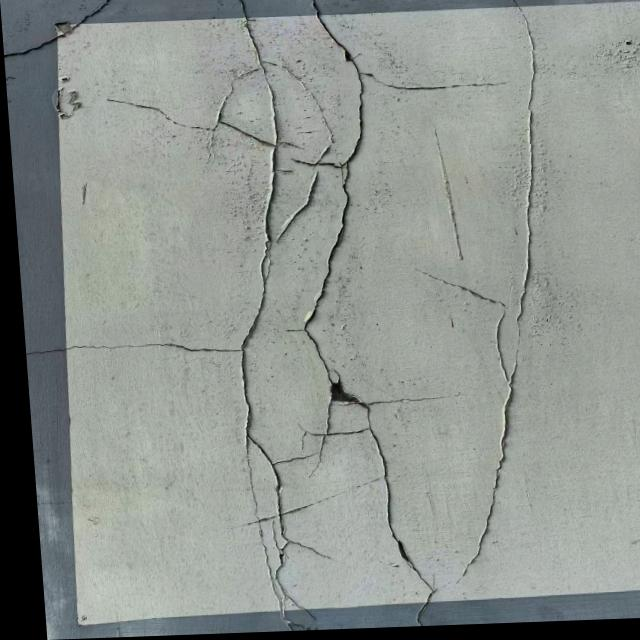crack: (34, 0, 345, 626), (271, 0, 512, 622), (404, 0, 548, 598)
spalling: (321, 376, 378, 412), (48, 73, 85, 120), (54, 21, 75, 38)
